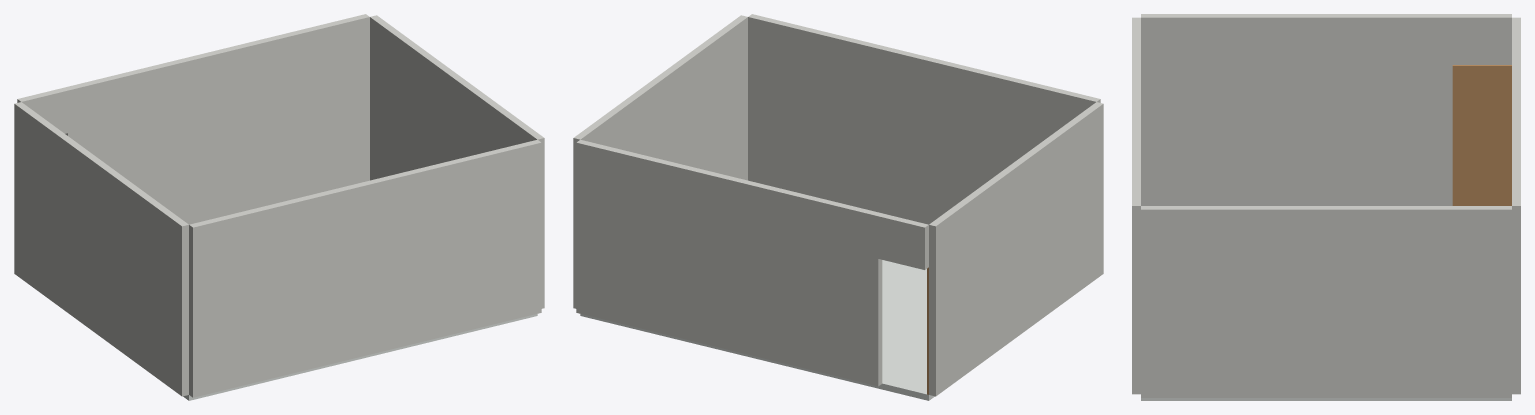
3 views of the same model, side by side, from view 1: azimuth 30°, elevation 25°; view 2: azimuth 150°, elevation 25°; view 3: azimuth 270°, elevation 25° (orthographic). The views are drawn at different scales.
Parts seen in each view (by area): view 1: room:north:full, room:south:high, room:west:full, room:east:full, room:south:lintel, room:floor; view 2: room:south:high, room:north:full, room:west:full, room:east:full, room:floor, room:south:lintel; view 3: room:east:full, room:west:full, door:leaf, room:north:full, room:south:high, room:floor.
Boxes of the visible parts, x1,y1,x2,y2 form: room:north:full: [189, 139, 541, 397]; room:south:high: [64, 14, 369, 224]; room:west:full: [14, 102, 188, 396]; room:east:full: [370, 15, 544, 308]; room:south:lintel: [17, 87, 67, 133]; room:floor: [183, 314, 537, 400]; room:south:high: [576, 139, 882, 386]; room:north:full: [748, 14, 1100, 224]; room:west:full: [929, 102, 1103, 396]; room:east:full: [573, 15, 747, 308]; room:floor: [580, 260, 934, 400]; room:south:lintel: [878, 213, 928, 269]; room:east:full: [1141, 206, 1511, 397]; room:west:full: [1141, 14, 1511, 205]; door:leaf: [1452, 65, 1511, 205]; room:north:full: [1132, 17, 1140, 394]; room:south:high: [1512, 43, 1520, 394]; room:floor: [1141, 398, 1511, 400].
Bounding box in the file's own units: 6.24 × 2.9 × 5.24.
